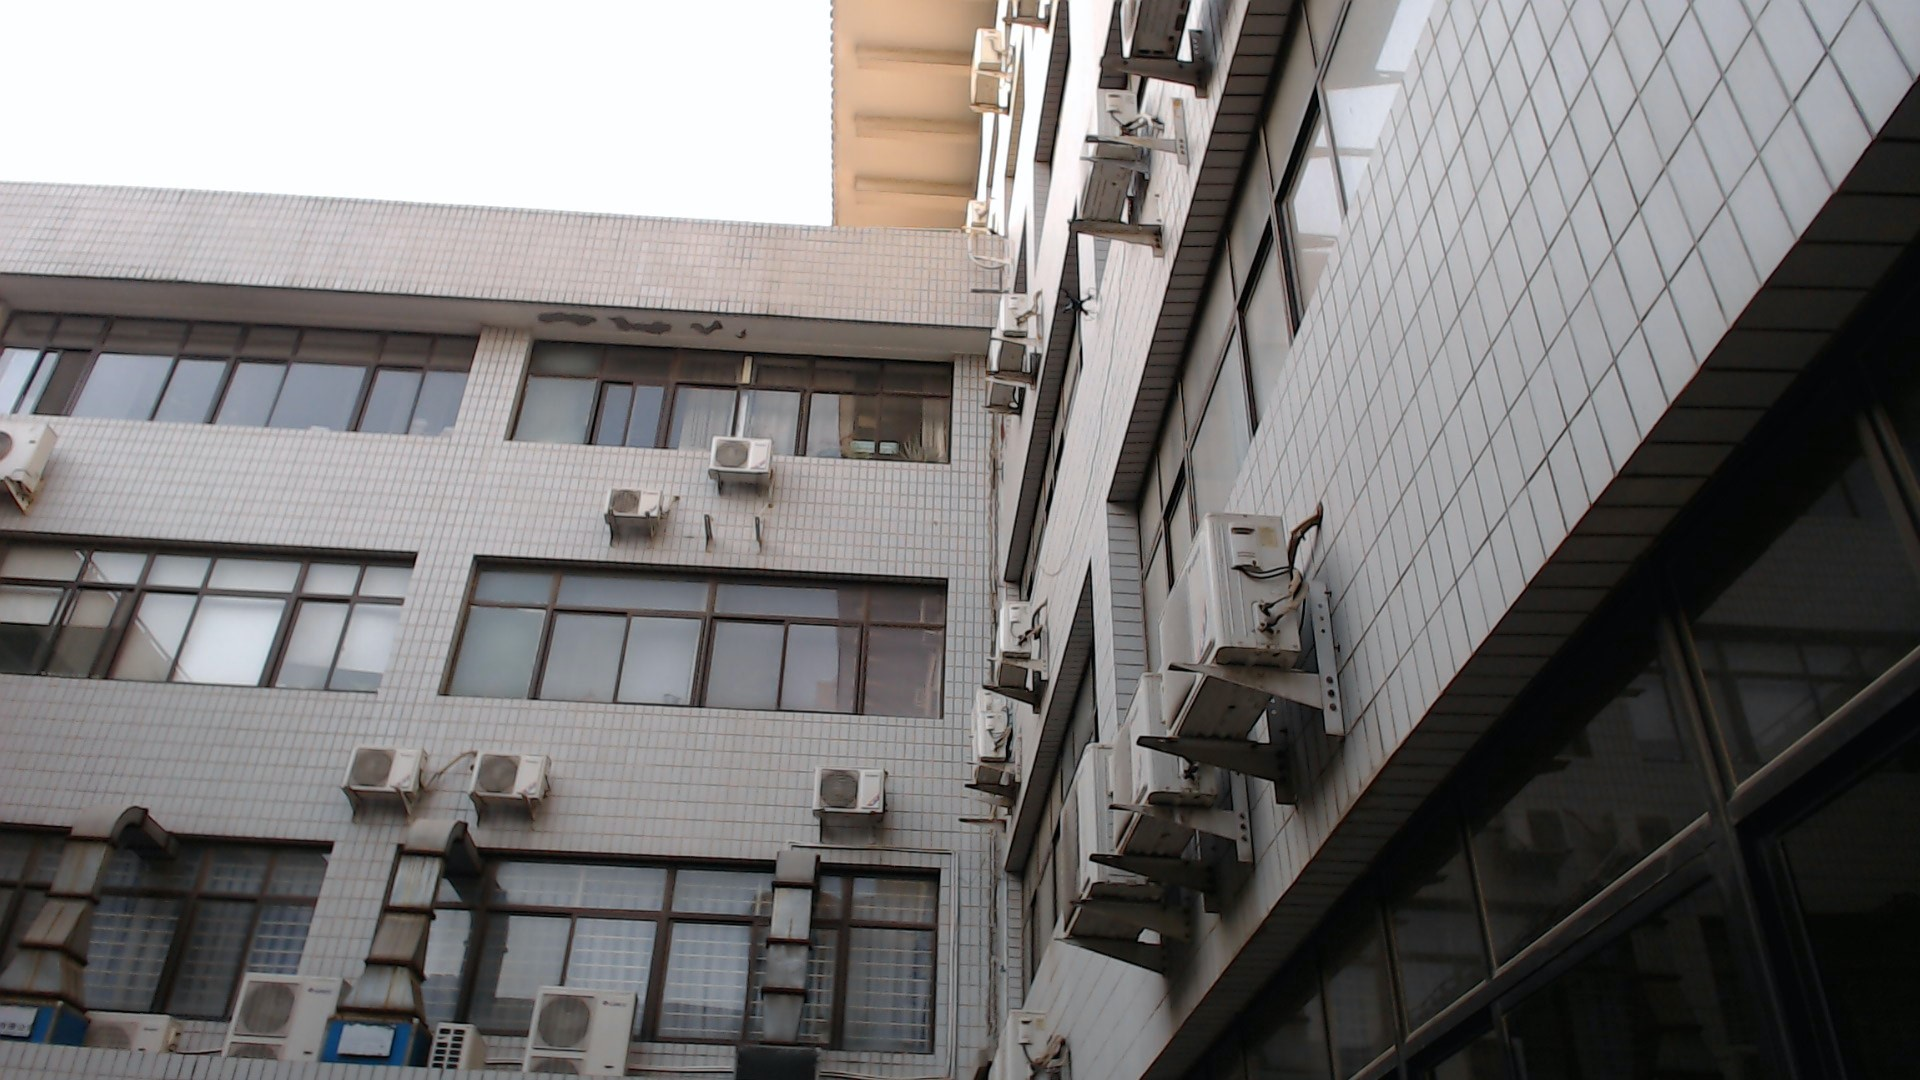drone: (1044, 273, 1116, 334)
